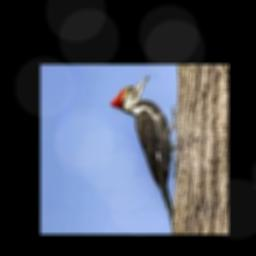Woodpecker: (110, 74, 177, 229)
